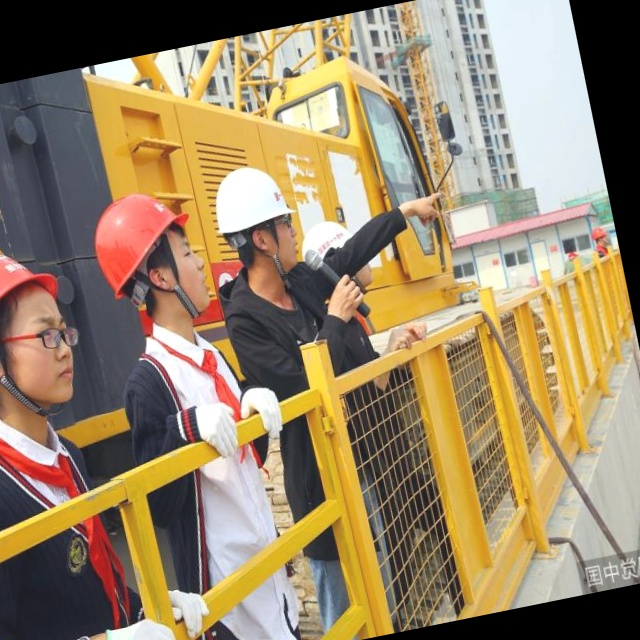Con_Casco: (88, 183, 215, 335), (207, 160, 300, 281)
Sin_Chaleco: (123, 332, 284, 640), (0, 427, 133, 640)
